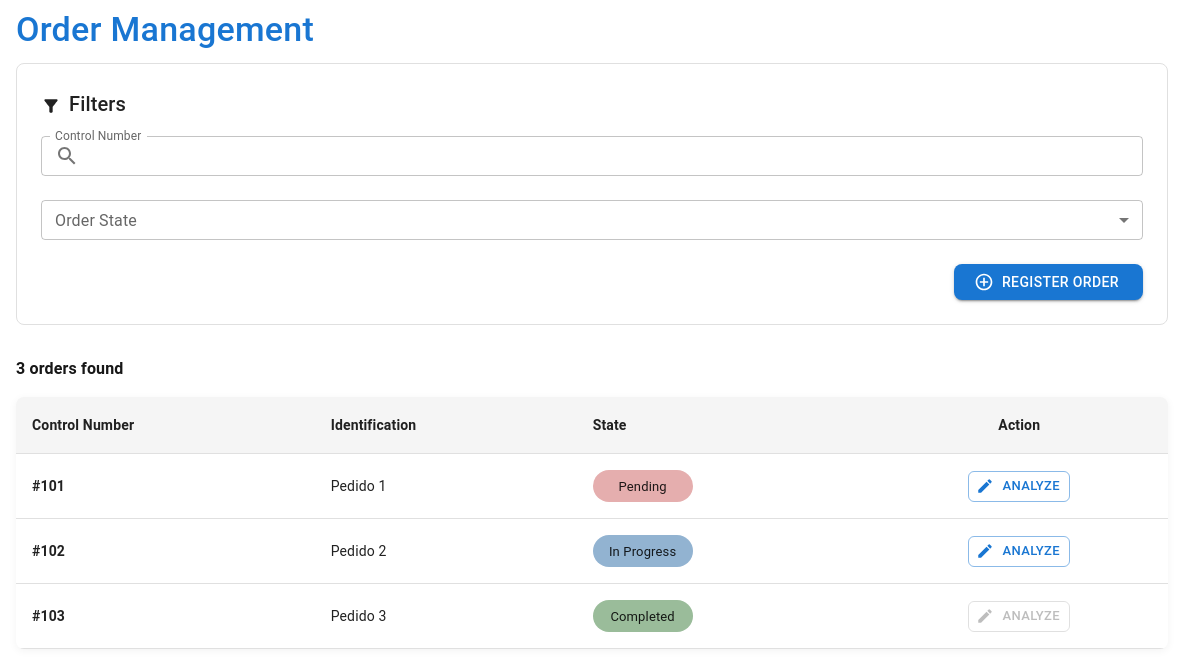
Scenario: OrdersPage › should filter by status
Click the dropdown named "Order State": [592, 220] box [41,200,1143,240]
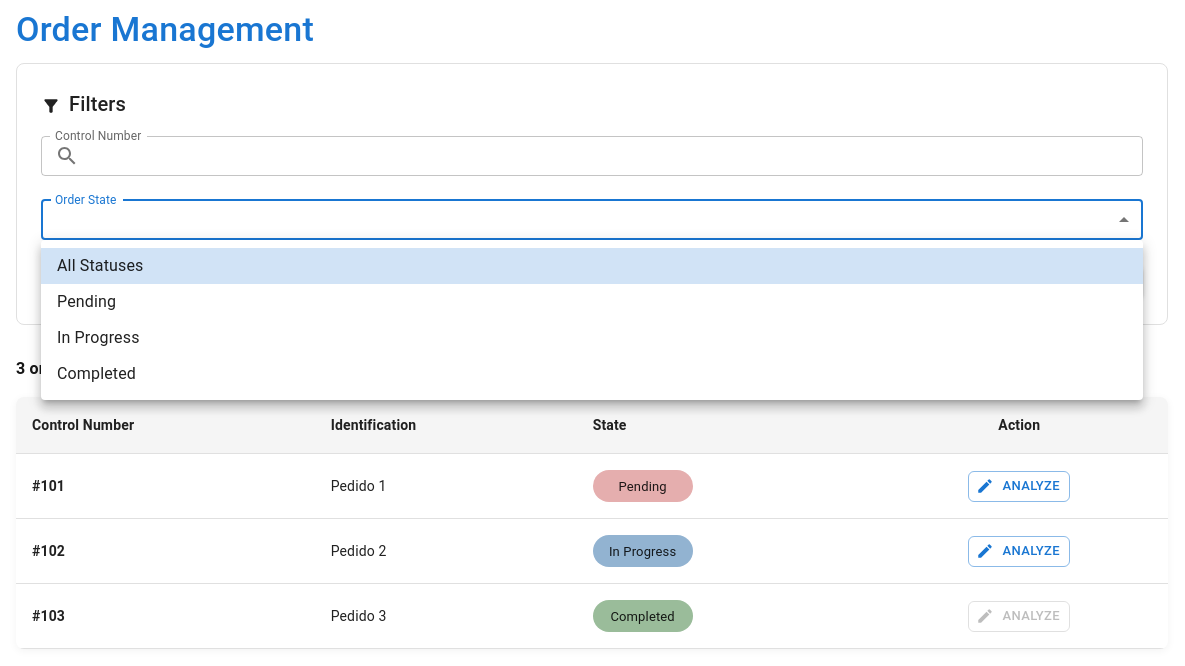
Click the option "Completed": [96, 374] box [57,364,136,383]
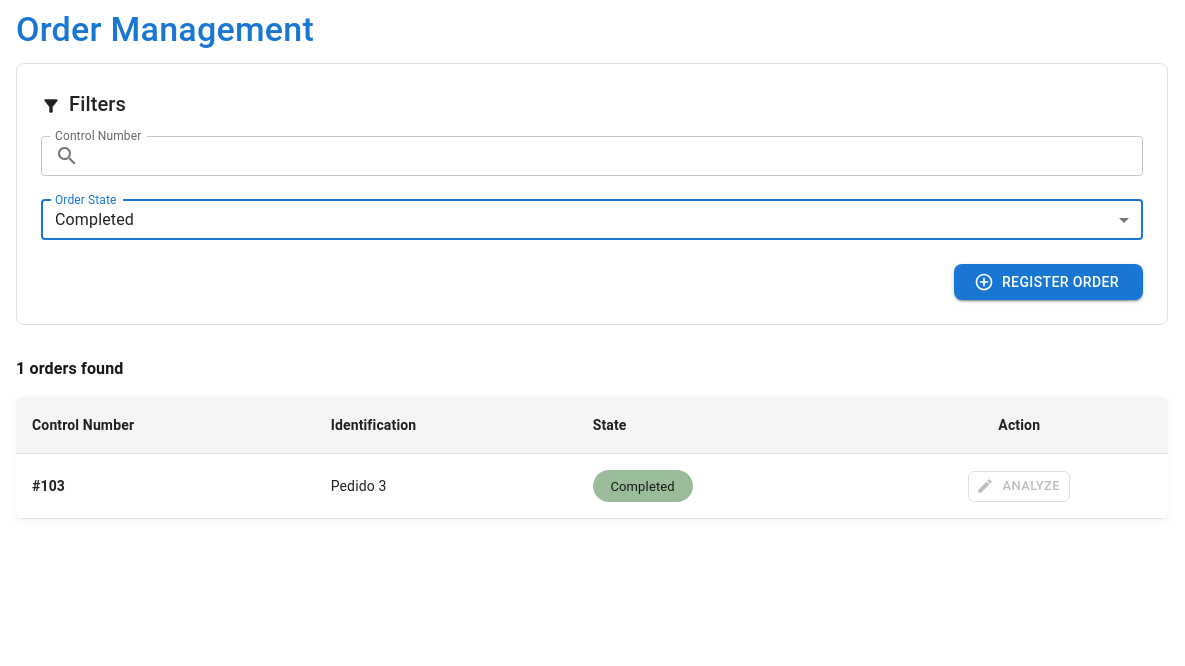
Expected: the text "#103" is shown, [32,478,65,494]
Result: the text "#101" is gone
Result: the text "#102" is gone
